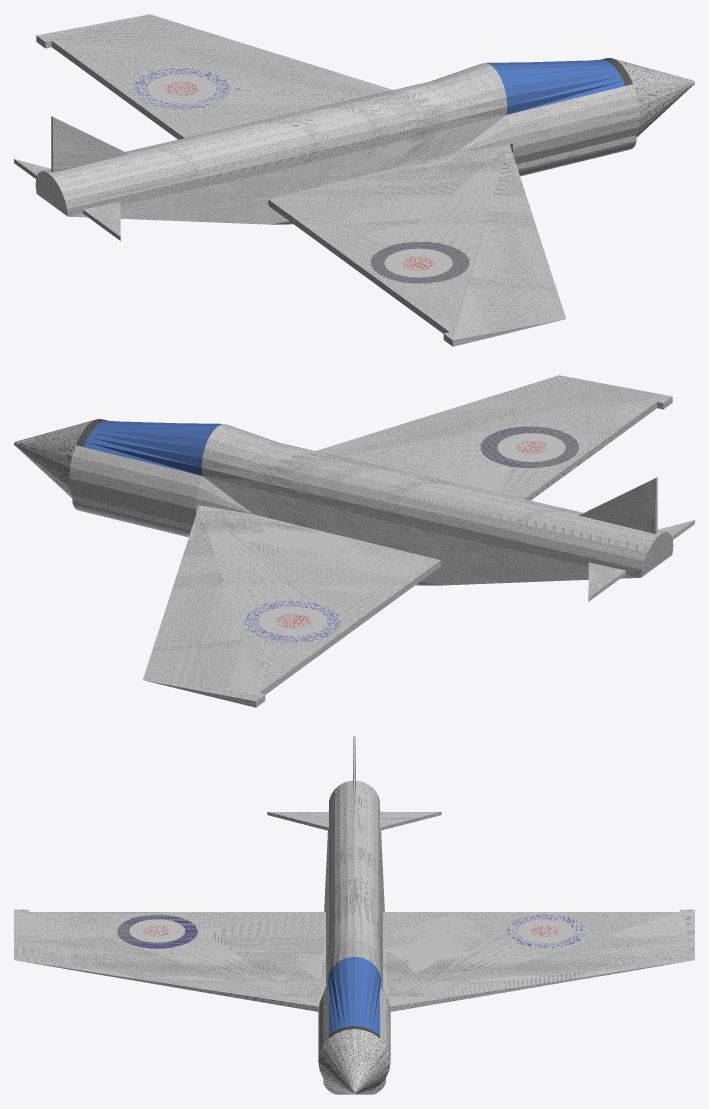
3 renders of one model, top to bottom at view 1: azimuth 30°, elevation 25°; view 2: azimuth 150°, elevation 25°; view 3: azimuth 270°, elevation 25°, orthographic. The views are drawn at different scales.
Parts seen in each view (by area): view 1: mesh1_mesh1-geometry, mesh2_mesh2-geometry; view 2: mesh1_mesh1-geometry, mesh2_mesh2-geometry; view 3: mesh1_mesh1-geometry, mesh2_mesh2-geometry.
Part boxes in pixels (x1,y1,x2,y2): mesh1_mesh1-geometry: (14,14,694,346); mesh2_mesh2-geometry: (384,248,452,277); mesh1_mesh1-geometry: (14,375,694,707); mesh2_mesh2-geometry: (497,433,565,461); mesh1_mesh1-geometry: (14,736,694,1094); mesh2_mesh2-geometry: (129,919,185,942).
Size of the model in its own units: 0.6584 by 0.1583 by 0.7359.
